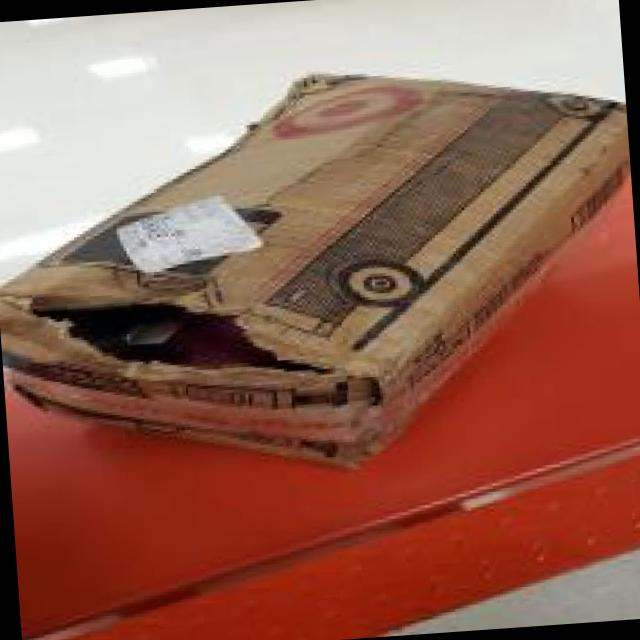box: (1, 67, 640, 465)
tear: (1, 287, 386, 388)
